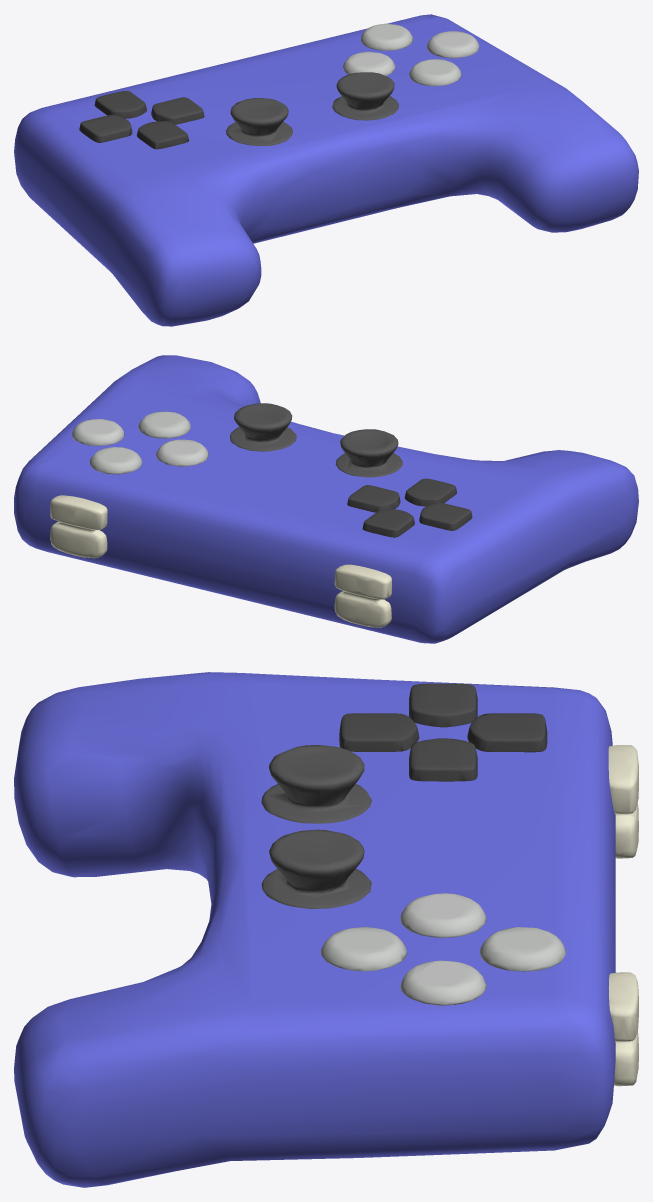
Rendered from controller.glb.
The picture shows the model from 3 angles, top to bottom: view 1: azimuth 30°, elevation 25°; view 2: azimuth 150°, elevation 25°; view 3: azimuth 270°, elevation 25°; orthographic projection. The views are drawn at different scales.
Parts seen in each view (by area): view 1: Cube004, Cylinder002, Cylinder001, Cube002, Cube001, Cylinder; view 2: Cube004, Cube003, Cylinder002, Cylinder001, Cylinder, Cube002, Cube001; view 3: Cube004, Cylinder002, Cylinder, Cylinder001, Cube003, Cube001, Cube002.
Part boxes in pixels (x1,y1,x2,y2): Cube004: (14,14,638,326); Cylinder002: (226,72,398,145); Cylinder001: (360,23,461,86); Cube002: (79,97,204,142); Cube001: (94,91,189,149); Cylinder: (343,31,479,75); Cube004: (14,355,638,643); Cube003: (50,495,391,627); Cylinder002: (230,403,402,477); Cylinder001: (90,411,190,474); Cylinder: (72,419,208,466); Cube002: (347,485,472,530); Cube001: (362,478,456,537); Cube004: (14,672,615,1187); Cylinder002: (261,745,371,908); Cylinder: (400,893,486,1005); Cylinder001: (320,927,565,971); Cube003: (608,745,638,1086); Cube001: (339,713,547,752); Cube002: (409,683,477,781).
Bounding box in the file's own units: 4.53 × 1.11 × 3.07.
